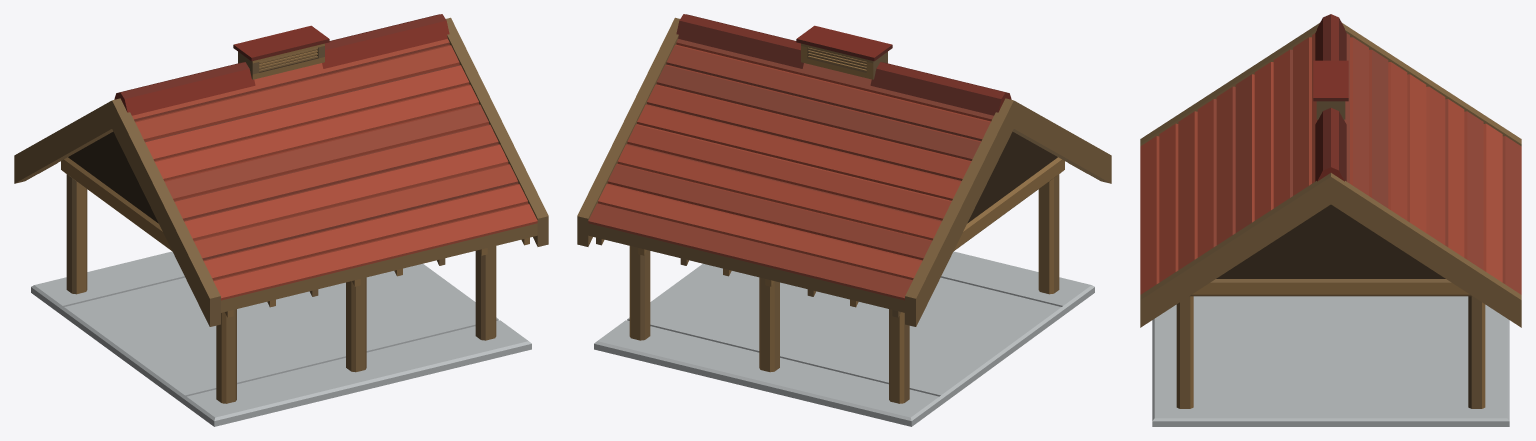
The model's file is park-picnic-shelter-9548a3.glb.
3 views of the same model, side by side, from view 1: azimuth 30°, elevation 25°; view 2: azimuth 150°, elevation 25°; view 3: azimuth 270°, elevation 25° (orthographic). The views are drawn at different scales.
Visible parts, largest first — view 1: shelter; view 2: shelter; view 3: shelter.
Part boxes in pixels (bbox=[...]): shelter: bbox=[14, 14, 548, 426]; shelter: bbox=[577, 14, 1111, 426]; shelter: bbox=[1140, 14, 1521, 426].
Size of the model in its own units: 8 by 6.3 by 8.
